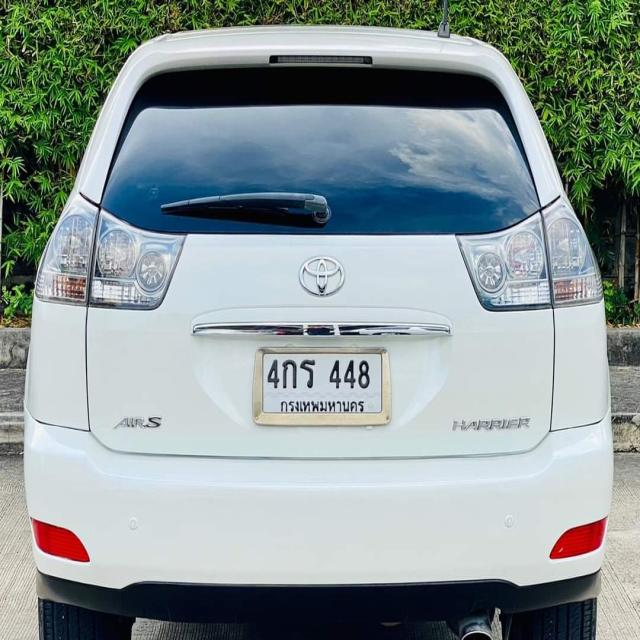license_plate: (250, 345, 392, 428)
